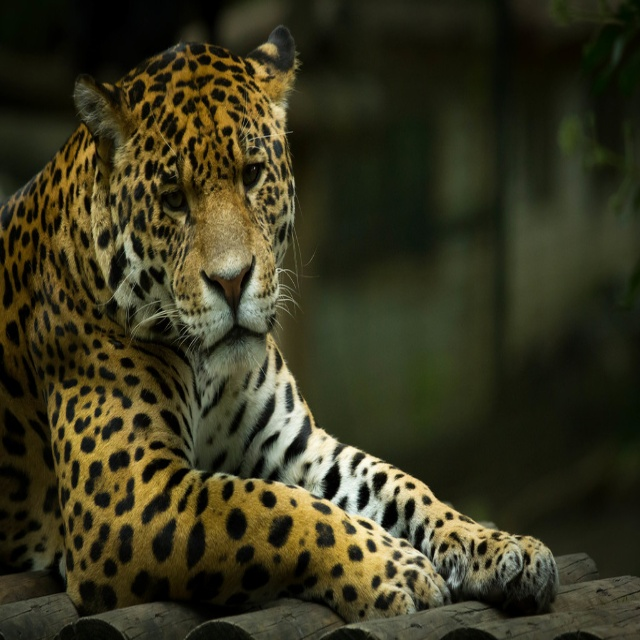Jaguar: (0, 22, 560, 615)
